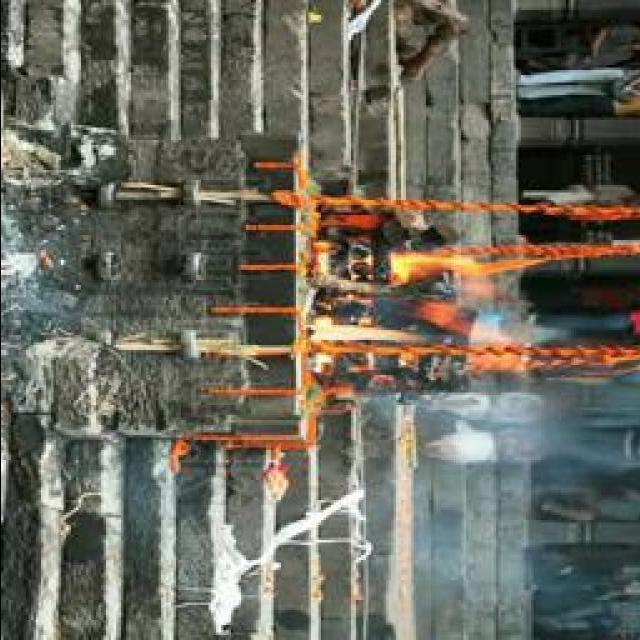Fire: (302, 246, 532, 362)
